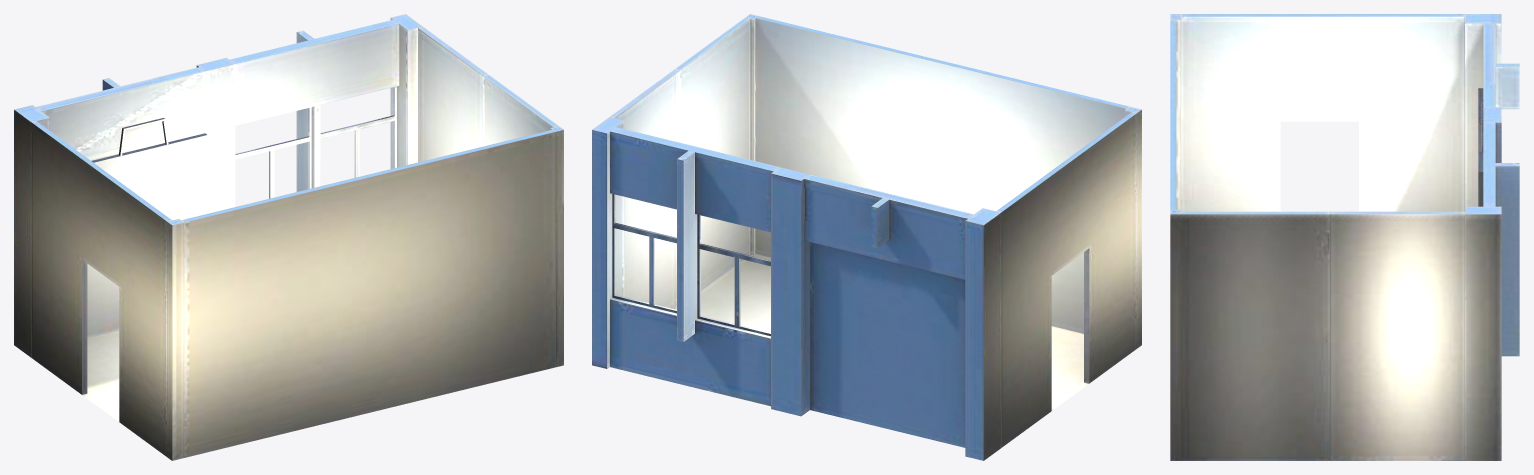
3 renders of one model, left to right at view 1: azimuth 30°, elevation 25°; view 2: azimuth 150°, elevation 25°; view 3: azimuth 270°, elevation 25°, orthographic. The views are drawn at different scales.
Visible parts, largest first — view 1: HC7_0; view 2: HC7_0; view 3: HC7_0.
Boxes of the visible parts, x1,y1,x2,y2 form: HC7_0: [14, 14, 563, 460]; HC7_0: [592, 14, 1141, 460]; HC7_0: [1170, 14, 1519, 460].
Bounding box in the file's own units: 0.908 × 0.5218 × 0.67.
